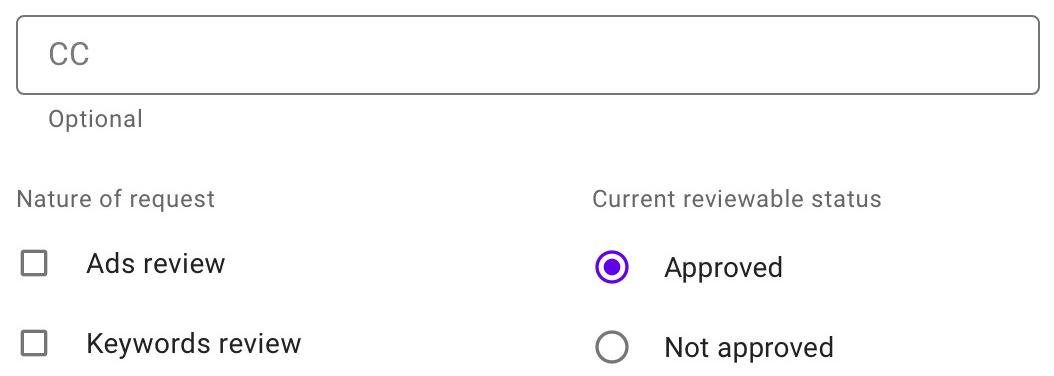checkbox: (20, 324, 53, 360), (17, 245, 49, 281)
checkbox_with_label: (15, 321, 300, 364), (11, 243, 225, 285)
field: (15, 12, 1046, 97)
radio: (591, 241, 633, 286), (595, 326, 630, 370)
radio_with_label: (590, 322, 838, 373), (584, 238, 787, 292)
